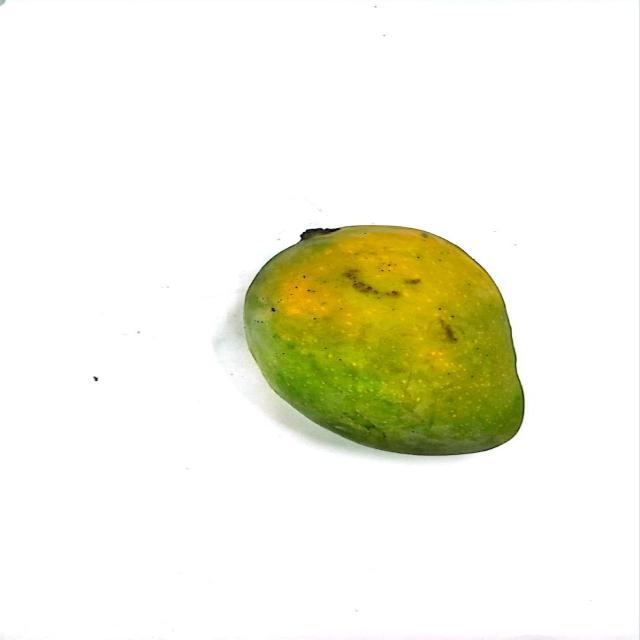fresh_mango: (237, 223, 530, 454)
